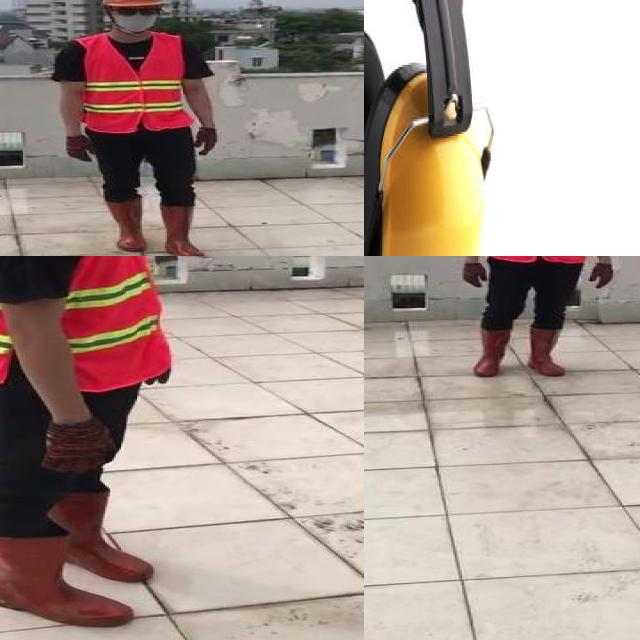Ear-protection: (364, 0, 500, 256)
boots: (0, 531, 133, 627), (59, 491, 153, 580), (103, 197, 146, 252), (158, 205, 202, 256), (530, 327, 568, 376), (474, 329, 508, 380)
face_mask: (111, 6, 159, 30)
glasses: (109, 3, 159, 18)
hand_glove: (38, 420, 120, 473), (188, 126, 218, 157), (66, 134, 96, 163), (586, 262, 616, 288), (460, 262, 489, 288), (150, 373, 174, 388)
head_helmet: (454, 256, 621, 374), (95, 0, 166, 8)
person: (0, 256, 201, 640), (48, 0, 226, 256)
vest: (0, 256, 169, 390), (76, 33, 190, 130)
